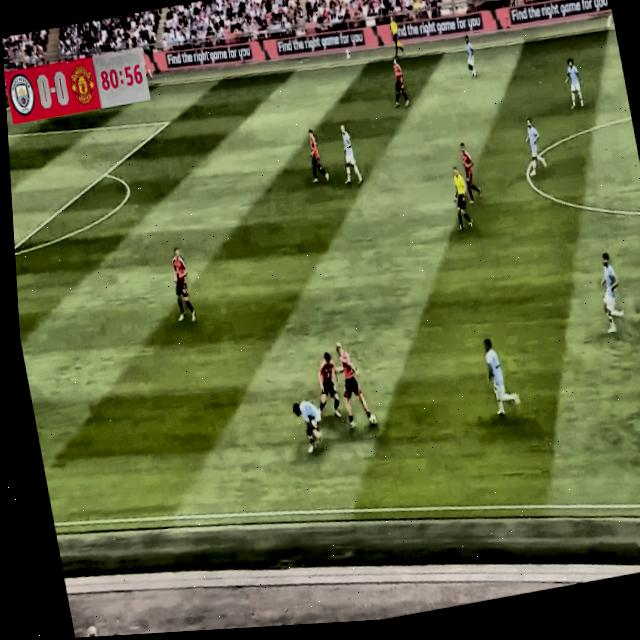ball: (367, 407, 381, 431)
players: (475, 330, 527, 429), (332, 334, 380, 429), (587, 247, 629, 336), (306, 341, 347, 425), (164, 243, 202, 330), (288, 390, 332, 464), (512, 114, 551, 186), (331, 119, 367, 192), (298, 123, 334, 193), (455, 139, 490, 209), (557, 52, 588, 113), (386, 53, 414, 119), (458, 30, 484, 90)
refree: (440, 161, 479, 239), (382, 10, 409, 66)
